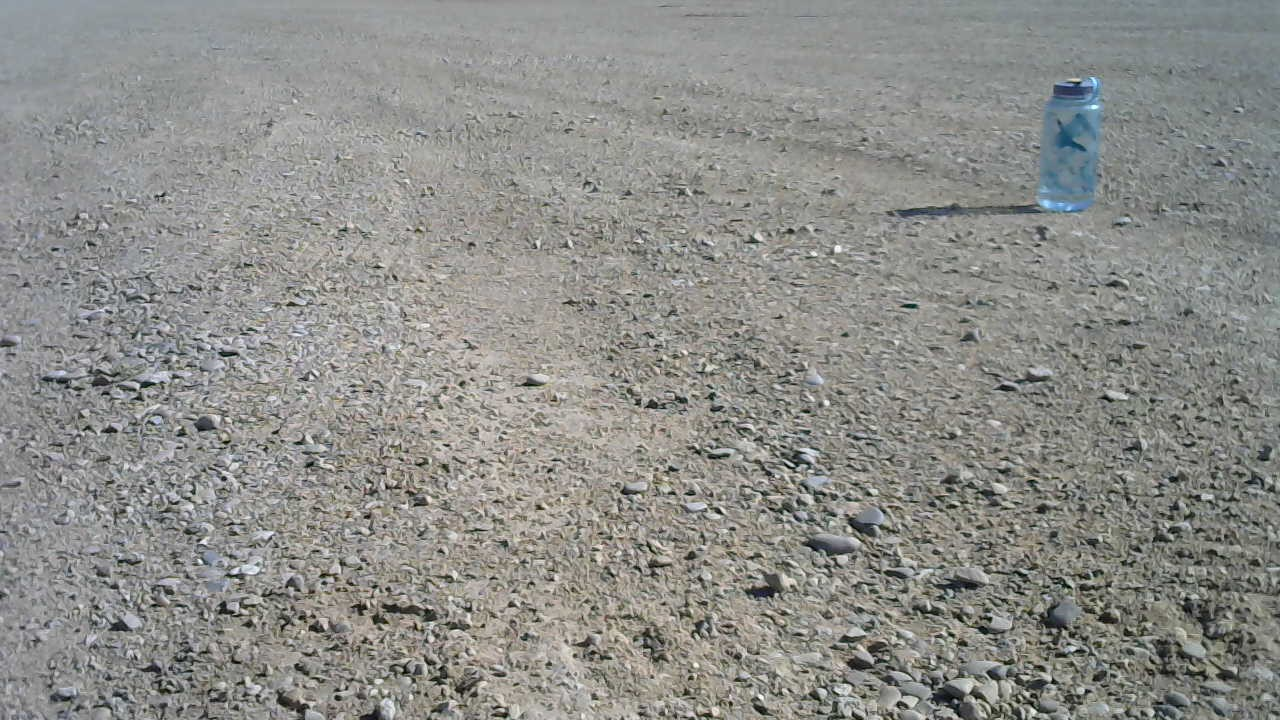bottle: (1032, 71, 1102, 216)
